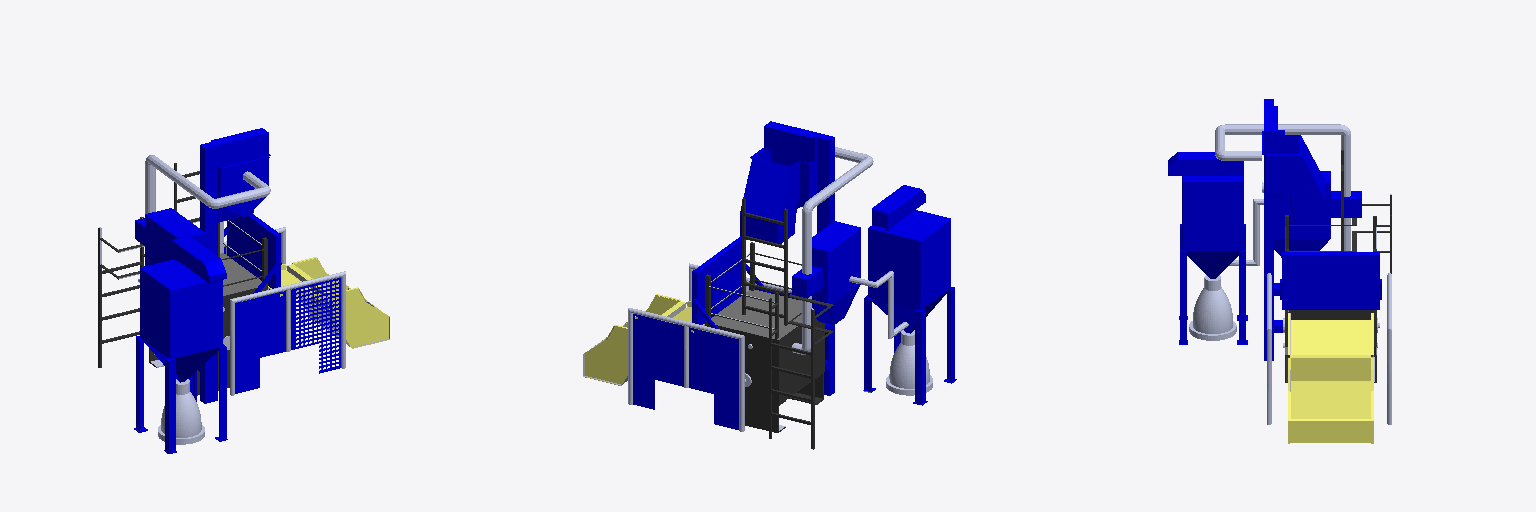
Rendered from Shot_Blasting_Machine_modifier_textures.obj.
3 renders of one model, left to right at view 1: azimuth 30°, elevation 25°; view 2: azimuth 150°, elevation 25°; view 3: azimuth 270°, elevation 25°, orthographic.
Visible parts, largest first — view 1: Solide1:2, Solide4, Solide20, Solide1, Solide19, Solide17, Solide24, Solide23, Solide7, Solide6, Solide8, Solide13; view 2: Solide1:2, Solide4, Solide27, Solide26, Solide17, Solide1, Solide24, Solide23, Solide8, Solide5, Solide7, Solide10 (+1 smaller); view 3: Solide1:2, Solide1, Solide17, Solide4, Solide1:1, Solide24, Solide23, Solide5, Solide6.
Boxes of the visible parts, x1,y1,x2,y2 form: Solide1:2: [98, 128, 281, 403]; Solide4: [140, 259, 222, 382]; Solide20: [235, 291, 285, 393]; Solide1: [287, 258, 388, 346]; Solide19: [291, 278, 340, 373]; Solide17: [227, 214, 280, 288]; Solide24: [158, 379, 204, 444]; Solide23: [172, 236, 226, 282]; Solide7: [165, 358, 175, 452]; Solide6: [219, 344, 226, 439]; Solide8: [136, 336, 143, 430]; Solide13: [230, 271, 345, 302]; Solide1:2: [692, 121, 873, 449]; Solide4: [868, 210, 950, 333]; Solide27: [689, 327, 738, 429]; Solide26: [633, 314, 683, 409]; Solide17: [692, 236, 741, 324]; Solide1: [585, 296, 685, 384]; Solide24: [886, 330, 932, 395]; Solide23: [872, 185, 925, 228]; Solide8: [915, 309, 925, 403]; Solide5: [864, 295, 871, 390]; Solide7: [947, 287, 954, 381]; Solide10: [628, 308, 743, 339]; Solide1:2: [1215, 99, 1391, 382]; Solide1: [1290, 355, 1370, 442]; Solide17: [1282, 252, 1379, 309]; Solide4: [1182, 176, 1243, 278]; Solide1:1: [1288, 313, 1373, 354]; Solide24: [1189, 275, 1236, 340]; Solide23: [1168, 152, 1243, 175]; Solide5: [1239, 249, 1245, 343]; Solide6: [1180, 249, 1186, 343].
Bounding box in the file's own units: 6229 × 5500 × 4383.